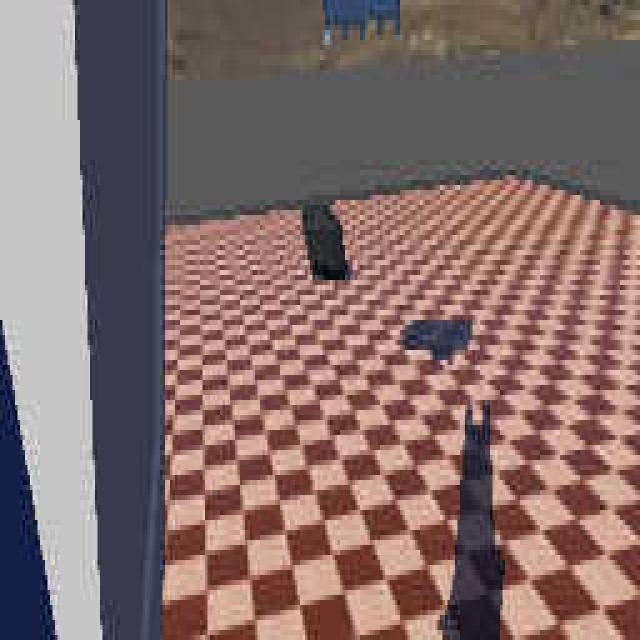rock: (300, 194, 350, 284)
